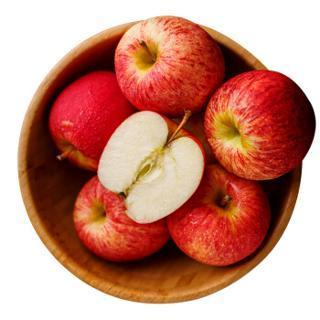apple: (201, 71, 315, 184), (97, 111, 205, 222), (111, 14, 223, 115), (165, 163, 272, 268), (47, 69, 137, 169), (71, 174, 171, 260)
